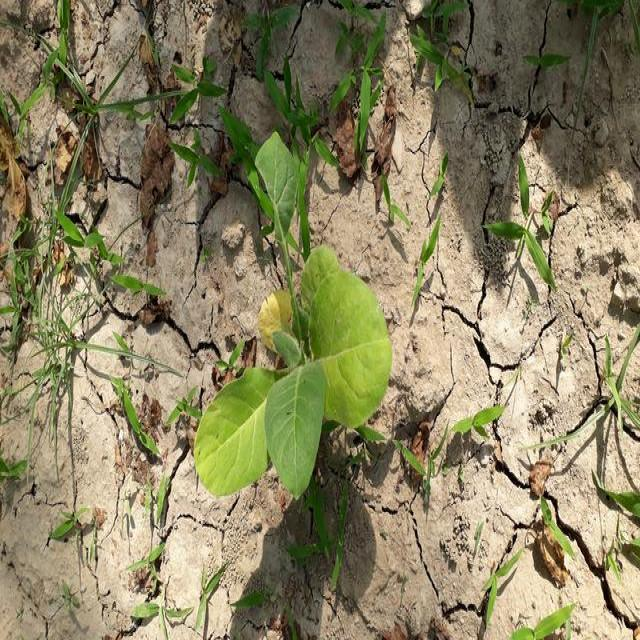crop: (170, 144, 379, 535)
